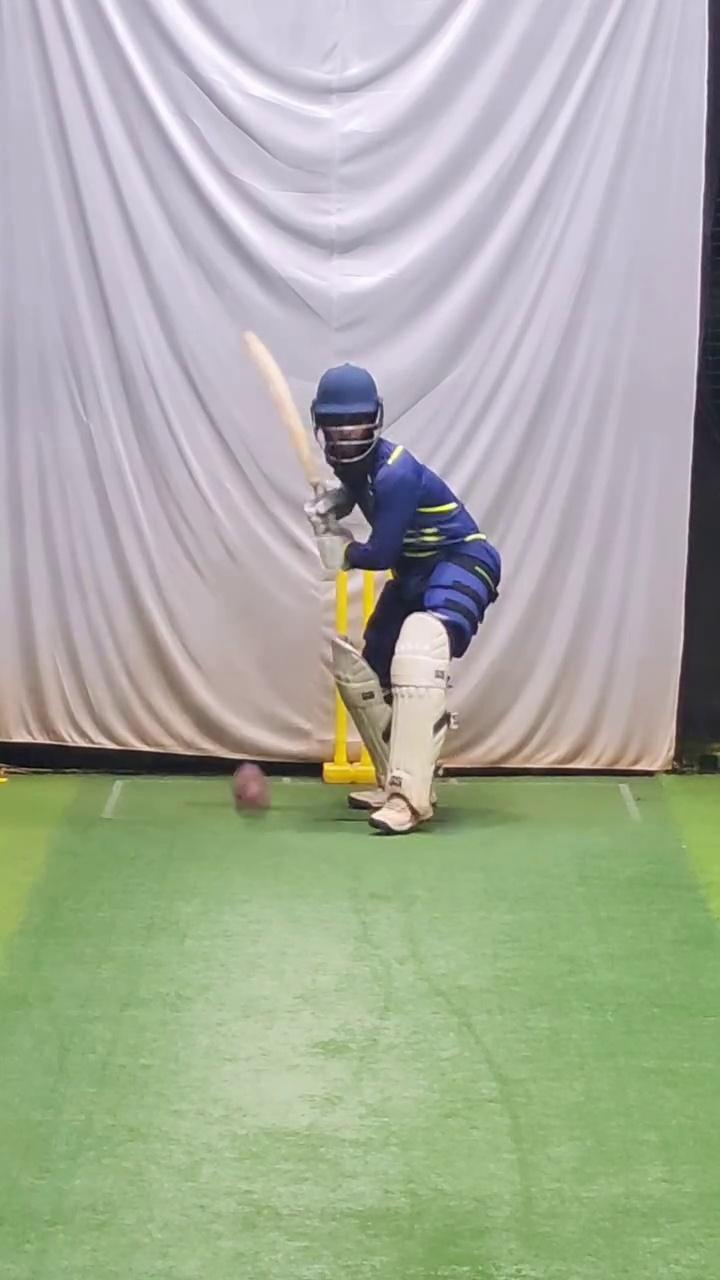bat: (233, 321, 329, 490)
